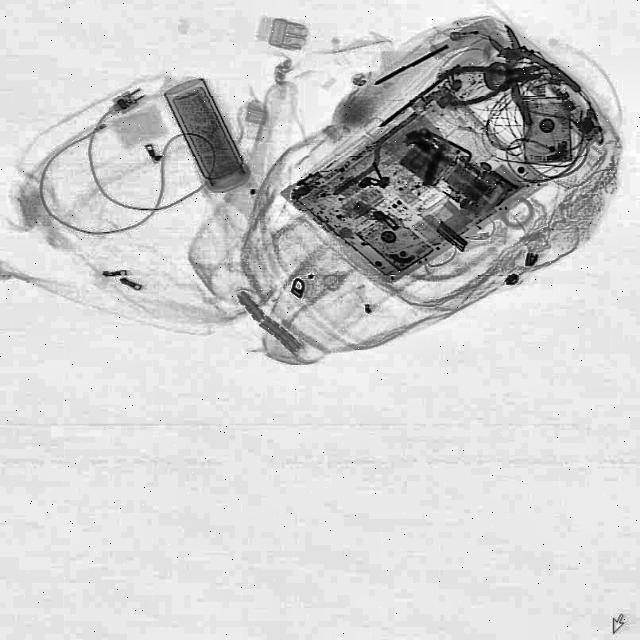Pliers: (466, 13, 584, 128), (435, 51, 545, 113)
